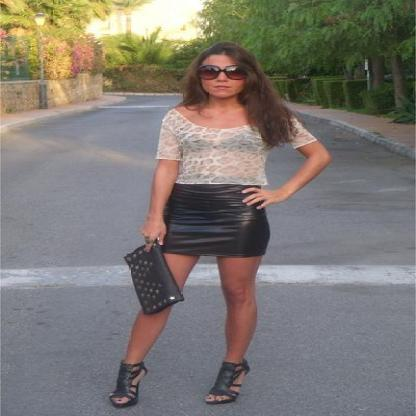bag: (124, 241, 183, 315)
shirt: (155, 109, 316, 185)
shoe: (112, 360, 249, 407)
skirt: (163, 183, 270, 257)
sunglass: (221, 59, 256, 79)
